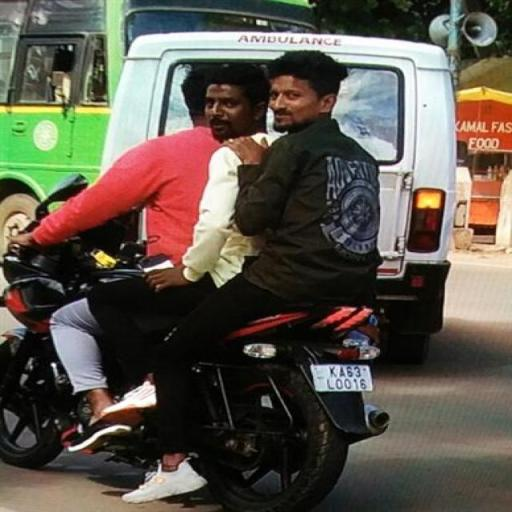tripple riding: (8, 47, 406, 348)
